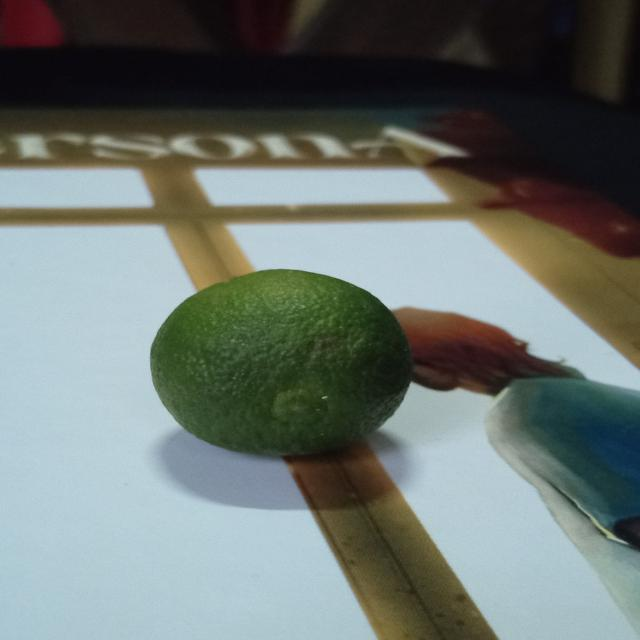heathy: (144, 271, 416, 468)
